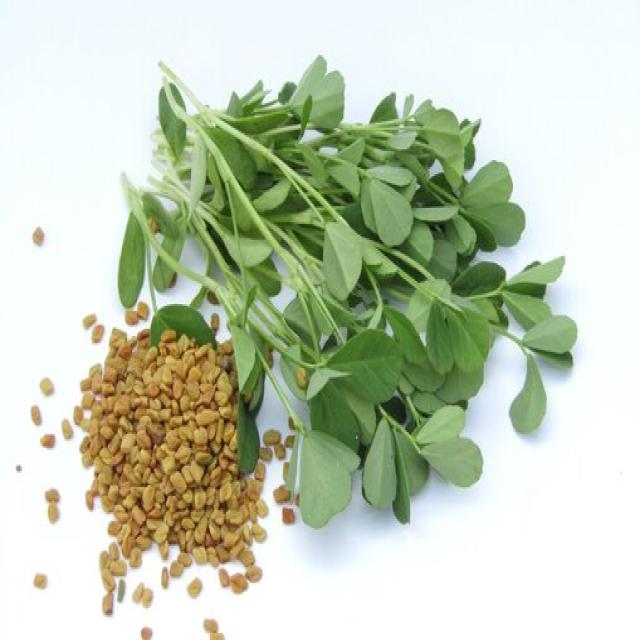Spinach: (233, 104, 521, 446)
